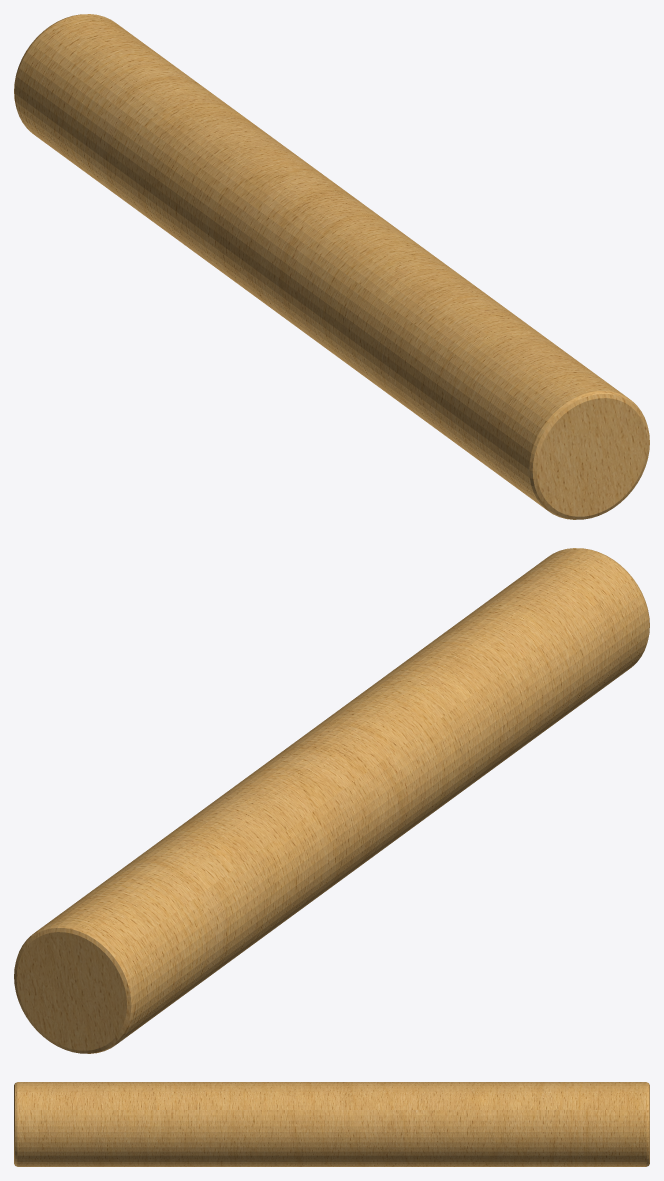
The picture shows the model from 3 angles, top to bottom: view 1: azimuth 30°, elevation 25°; view 2: azimuth 150°, elevation 25°; view 3: azimuth 270°, elevation 25°; orthographic projection. The views are drawn at different scales.
Visible parts, largest first — view 1: bolt_small_target_point; view 2: bolt_small_target_point; view 3: bolt_small_target_point.
Part boxes in pixels (<box>): bolt_small_target_point: <box>14,14,649,519</box>; bolt_small_target_point: <box>14,548,649,1053</box>; bolt_small_target_point: <box>14,1082,649,1166</box>.
Bounding box in the file's own units: 0.008 × 0.008 × 0.06.
1 material, 1 textured.
